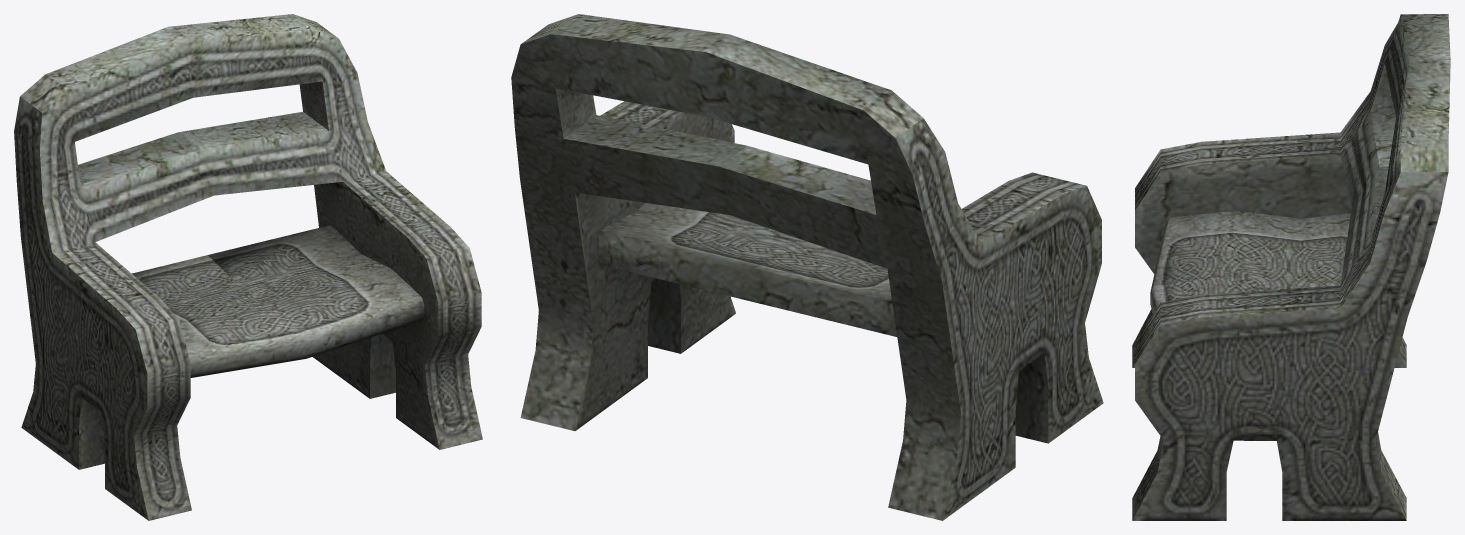
Rendered from fantasychair1.fbx.
The picture shows the model from 3 angles, left to right: view 1: azimuth 30°, elevation 25°; view 2: azimuth 150°, elevation 25°; view 3: azimuth 270°, elevation 25°; orthographic projection. The views are drawn at different scales.
Visible parts, largest first — view 1: fantasychair1; view 2: fantasychair1; view 3: fantasychair1.
Part boxes in pixels (<box>): fantasychair1: <box>14,14,482,520</box>; fantasychair1: <box>511,14,1103,520</box>; fantasychair1: <box>1132,14,1450,520</box>.
Size of the model in its own units: 1.17 by 1.16 by 0.899.
